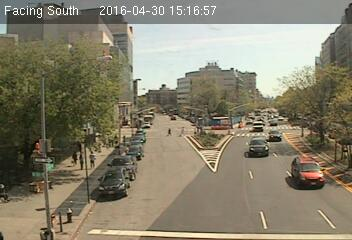neg: (247, 76, 262, 97), (231, 79, 244, 96), (195, 115, 207, 131), (233, 119, 245, 134)
pos: (86, 150, 99, 166), (68, 149, 80, 165), (164, 124, 174, 139)
